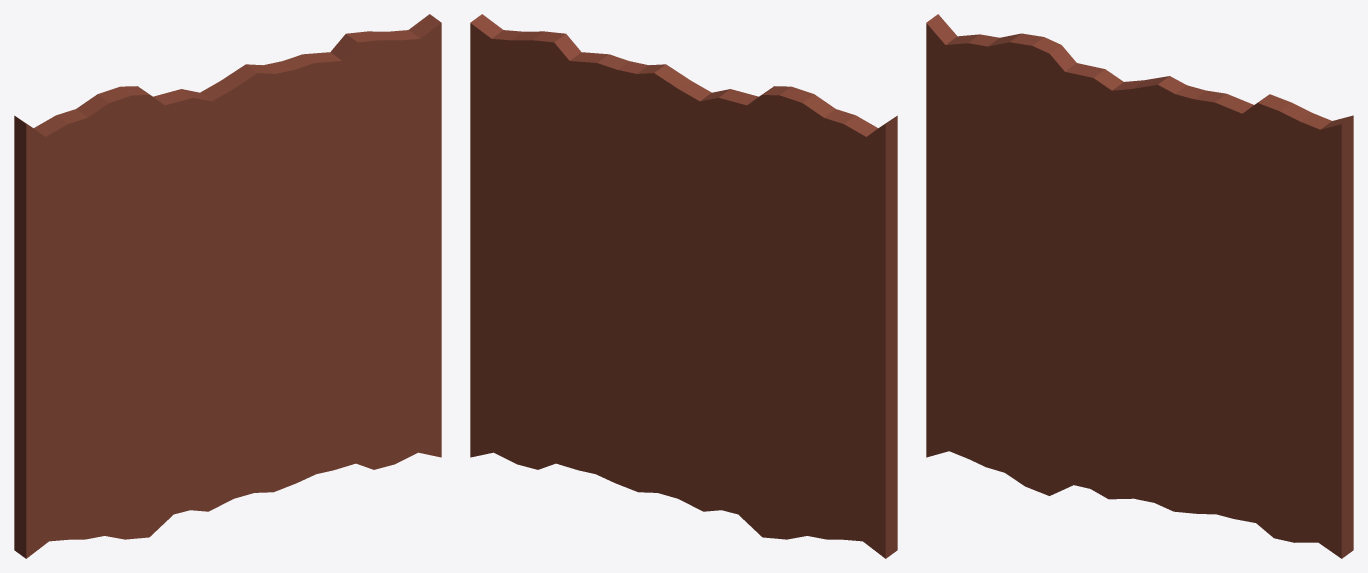
The model's file is tile05.001.glb.
3 renders of one model, left to right at view 1: azimuth 30°, elevation 25°; view 2: azimuth 150°, elevation 25°; view 3: azimuth 330°, elevation 25°, orthographic.
Visible parts, largest first — view 1: 05.001; view 2: 05.001; view 3: 05.001.
Part boxes in pixels (left/top/right/bottom): 05.001: left=14, top=14, right=441, bottom=558; 05.001: left=470, top=14, right=897, bottom=558; 05.001: left=926, top=14, right=1353, bottom=558.
Size of the model in its own units: 2 by 2.05 by 0.1.
Materials: 1 (1 with a texture image).
